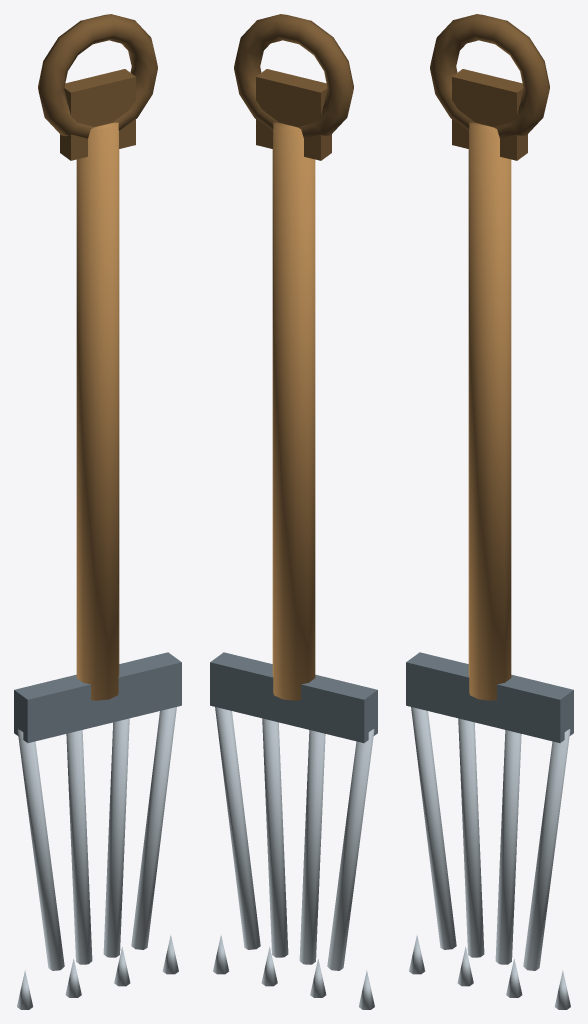
Rendered from wrong-pitchfork.glb.
3 views of the same model, side by side, from view 1: azimuth 30°, elevation 25°; view 2: azimuth 150°, elevation 25°; view 3: azimuth 330°, elevation 25° (orthographic).
Parts seen in each view (by area): view 1: wrong-pitchfork; view 2: wrong-pitchfork; view 3: wrong-pitchfork.
Part boxes in pixels (box(x1,y1,x2,y2)): wrong-pitchfork: box(14, 14, 181, 1009); wrong-pitchfork: box(210, 14, 377, 1009); wrong-pitchfork: box(406, 14, 573, 1009).
Size of the model in its own units: 0.1334 by 0.7837 by 0.032.
